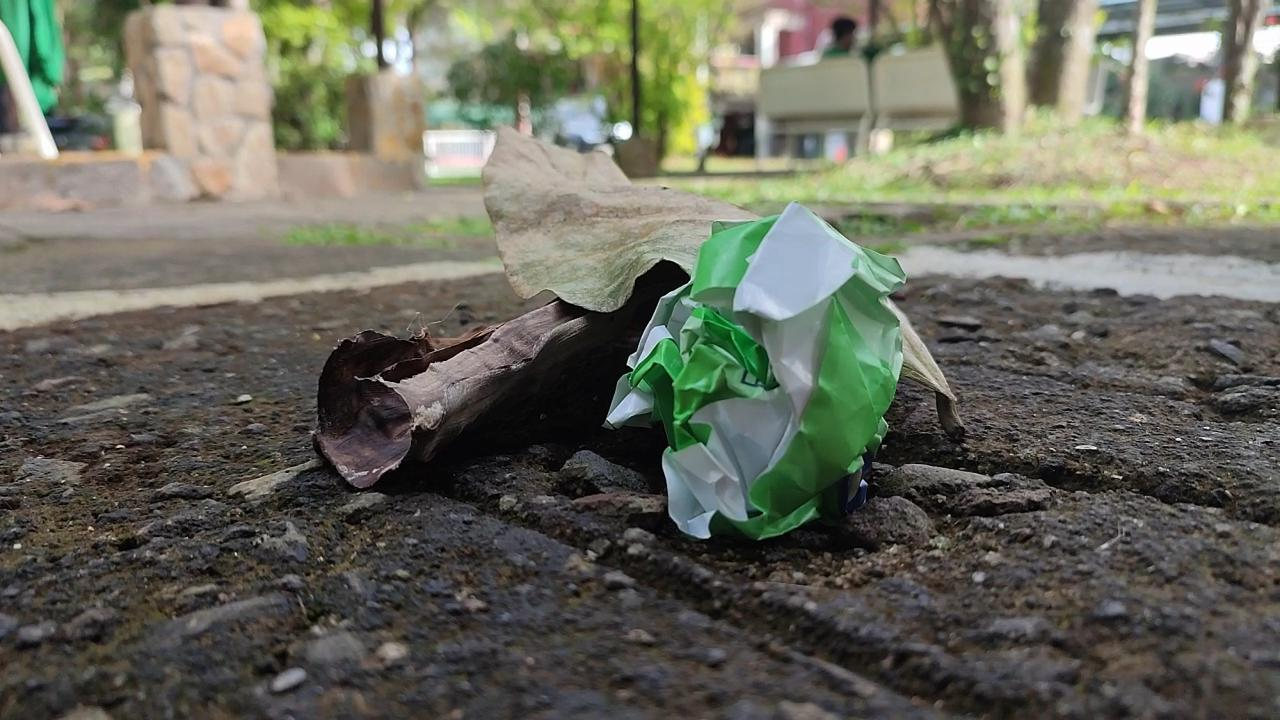Paper: (615, 189, 910, 568)
